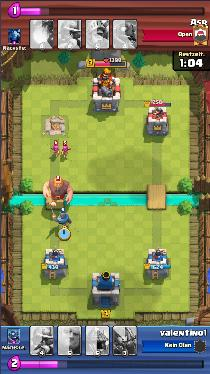ally_knight: (52, 209, 72, 227)
enemy_archer: (51, 145, 61, 156), (61, 144, 69, 157)
enemy_giant: (43, 178, 74, 206)
